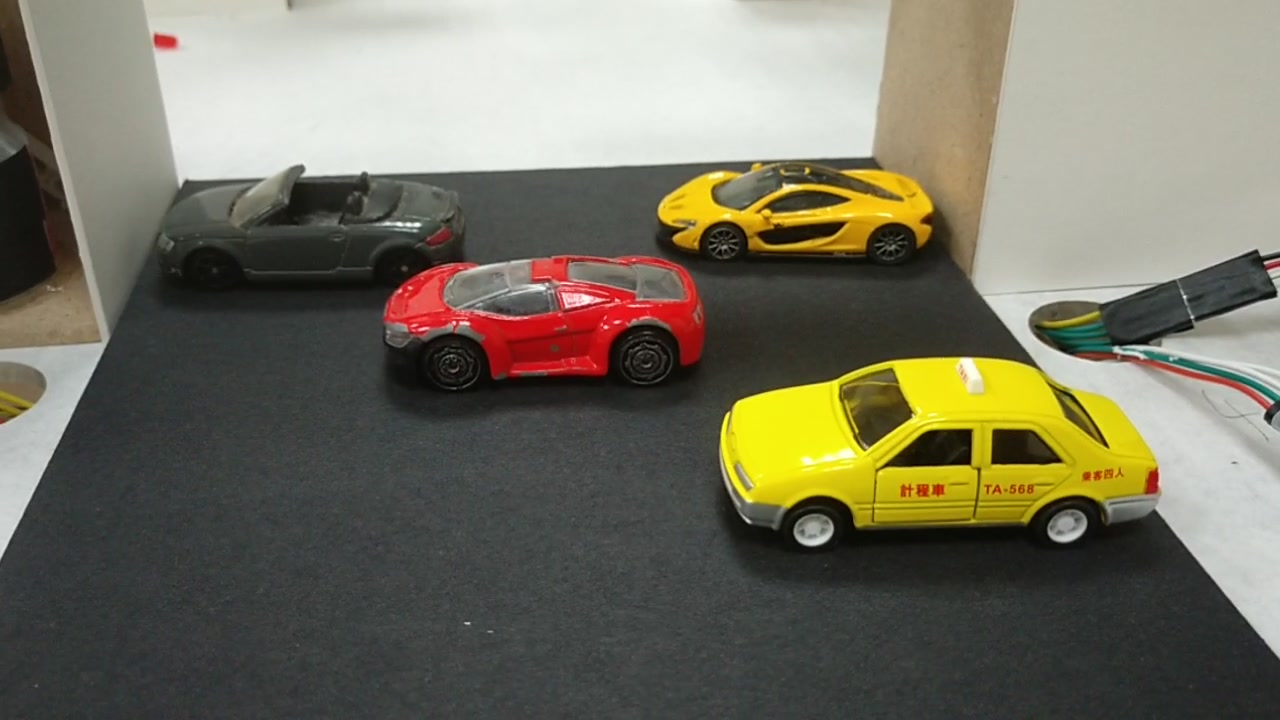car: (711, 356, 1162, 532), (392, 256, 694, 382), (159, 185, 461, 280), (663, 170, 931, 270)
